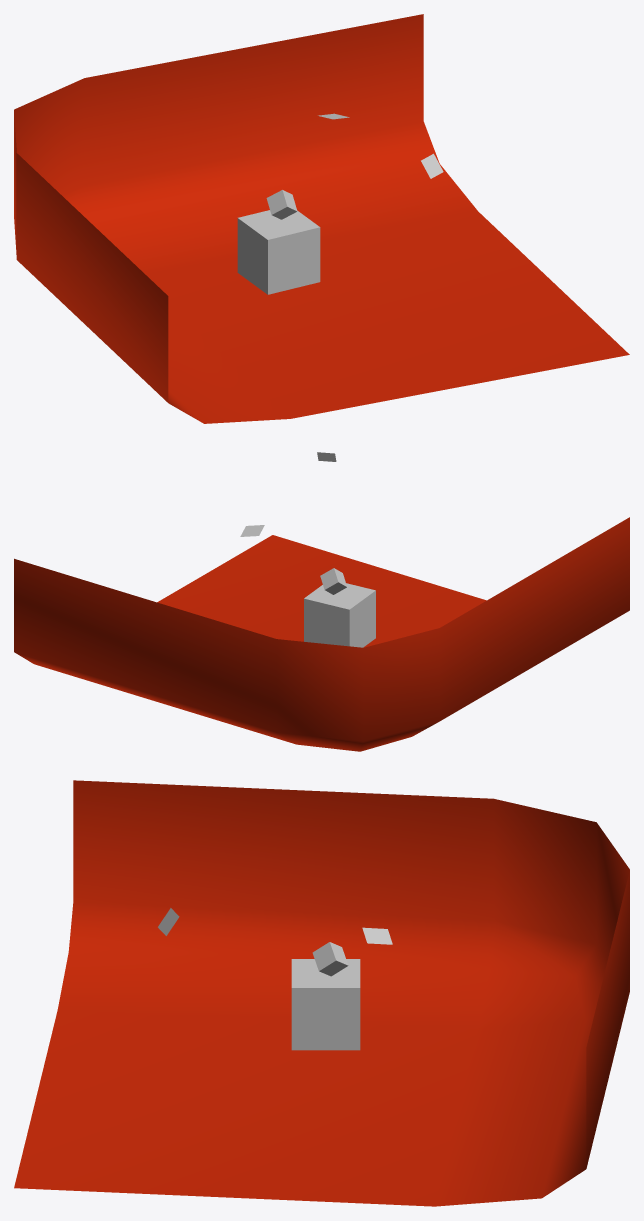
File: cubeSceneDebug.obj
3 views of the same model, one above another, from view 1: azimuth 30°, elevation 25°; view 2: azimuth 150°, elevation 25°; view 3: azimuth 270°, elevation 25° (orthographic). The views are drawn at different scales.
Parts seen in each view (by area): view 1: Cube.001, Cube, Cube.002; view 2: Cube.001, Cube, Cube.002; view 3: Cube.001, Cube, Cube.002.
Boxes of the visible parts, x1=… form: Cube.001: x1=14, y1=14, x2=629, y2=423; Cube: x1=237, y1=210, x2=320, y2=294; Cube.002: x1=266, y1=190, x2=297, y2=219; Cube.001: x1=14, y1=517, x2=629, y2=751; Cube: x1=304, y1=583, x2=375, y2=647; Cube.002: x1=320, y1=568, x2=346, y2=594; Cube.001: x1=14, y1=780, x2=629, y2=1206; Cube: x1=291, y1=959, x2=360, y2=1050; Cube.002: x1=312, y1=942, x2=348, y2=976.
Bounding box in the file's own units: 10.77 × 3.82 × 10.5.
